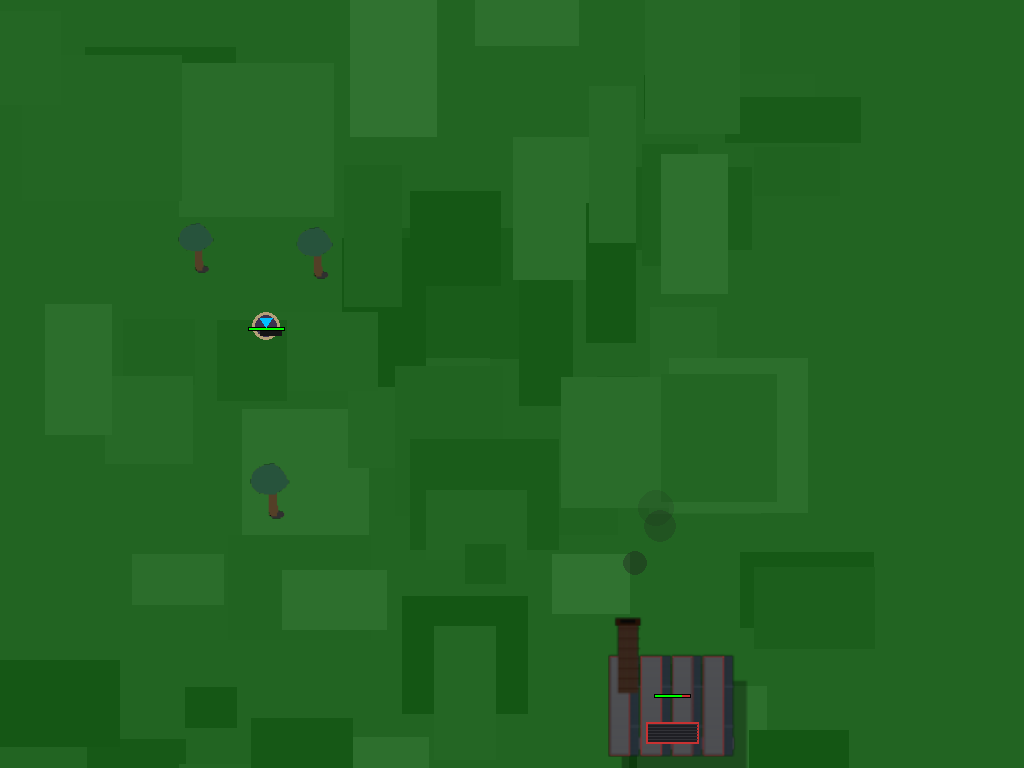FactoryBuilding: (592, 612, 753, 768)
RocketTrooper: (244, 304, 288, 348)
